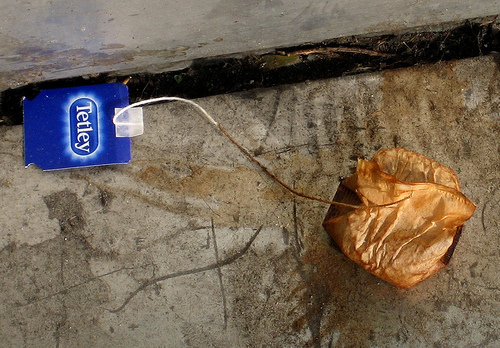litter: (321, 148, 478, 289), (20, 81, 146, 171)
